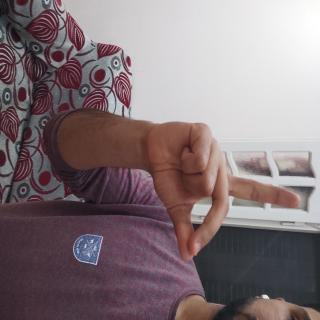TAA: (84, 22, 205, 235)
